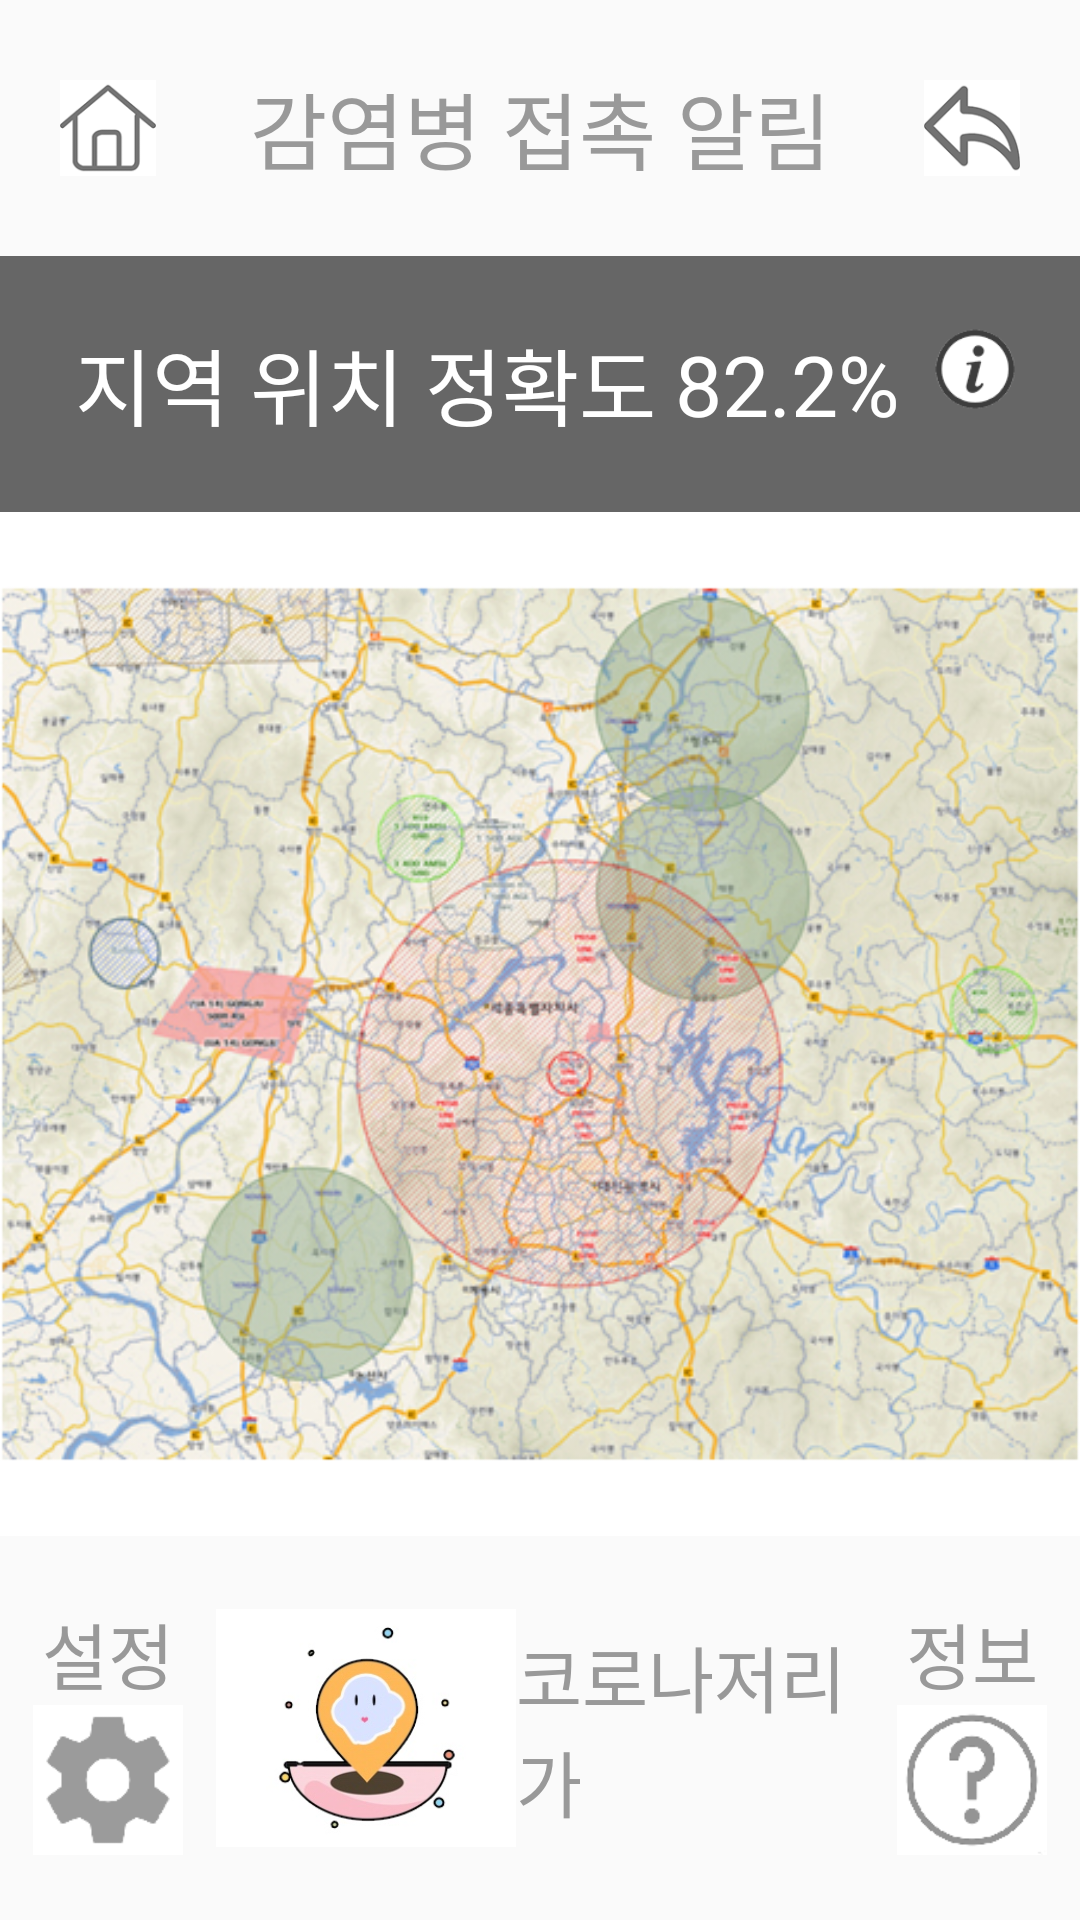

Locate icon controls on the screen. Image size 1080×1920, boxes as (x1, y1, x2, y2).
back: (924, 86, 1020, 170)
home: (60, 85, 156, 171)
information: (936, 330, 1014, 408)
question: (906, 1714, 1038, 1846)
setting: (46, 1717, 170, 1843)
